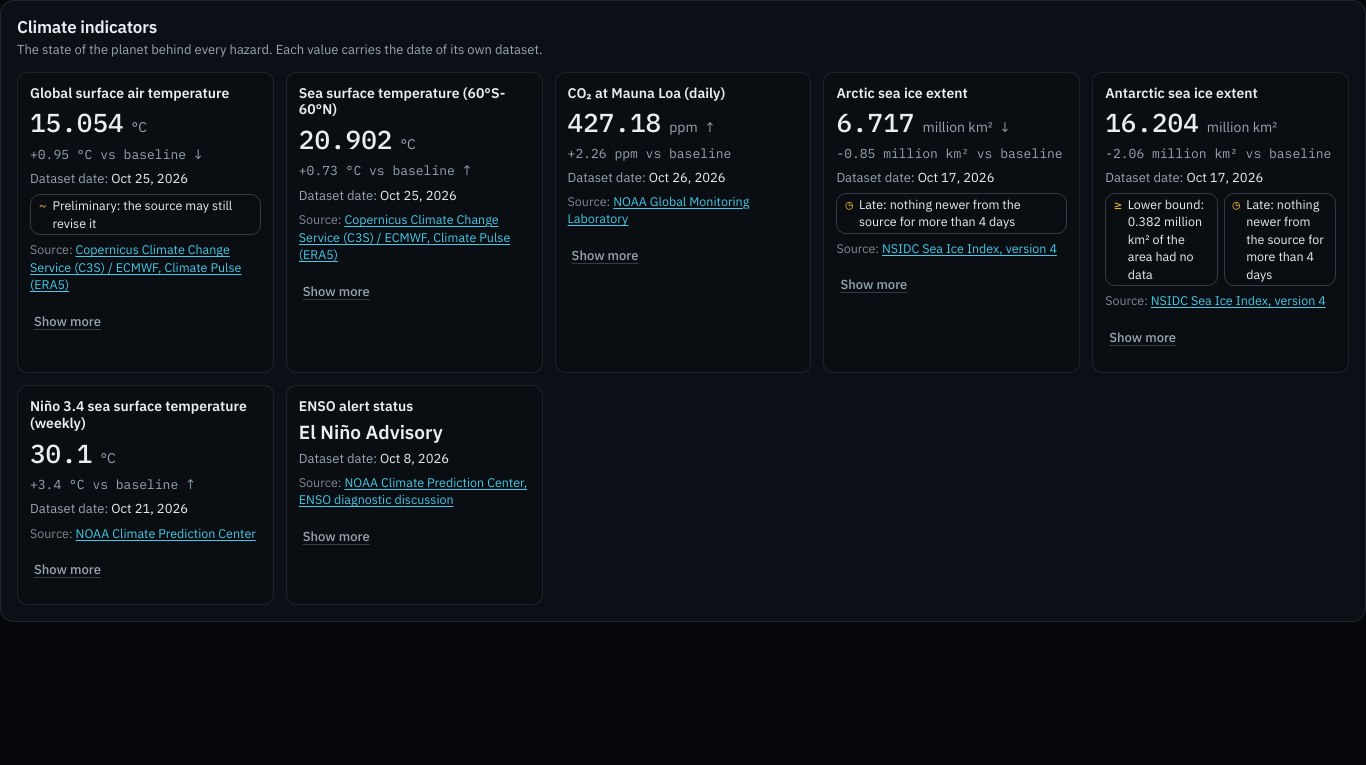
show more › toggles aria-expanded and reveals the long detail
Expected: the text "El Niño continues to strengthen" is not shown
Click the button "Show more" below "ENSO alert status": (336, 537) [299,515,374,559]
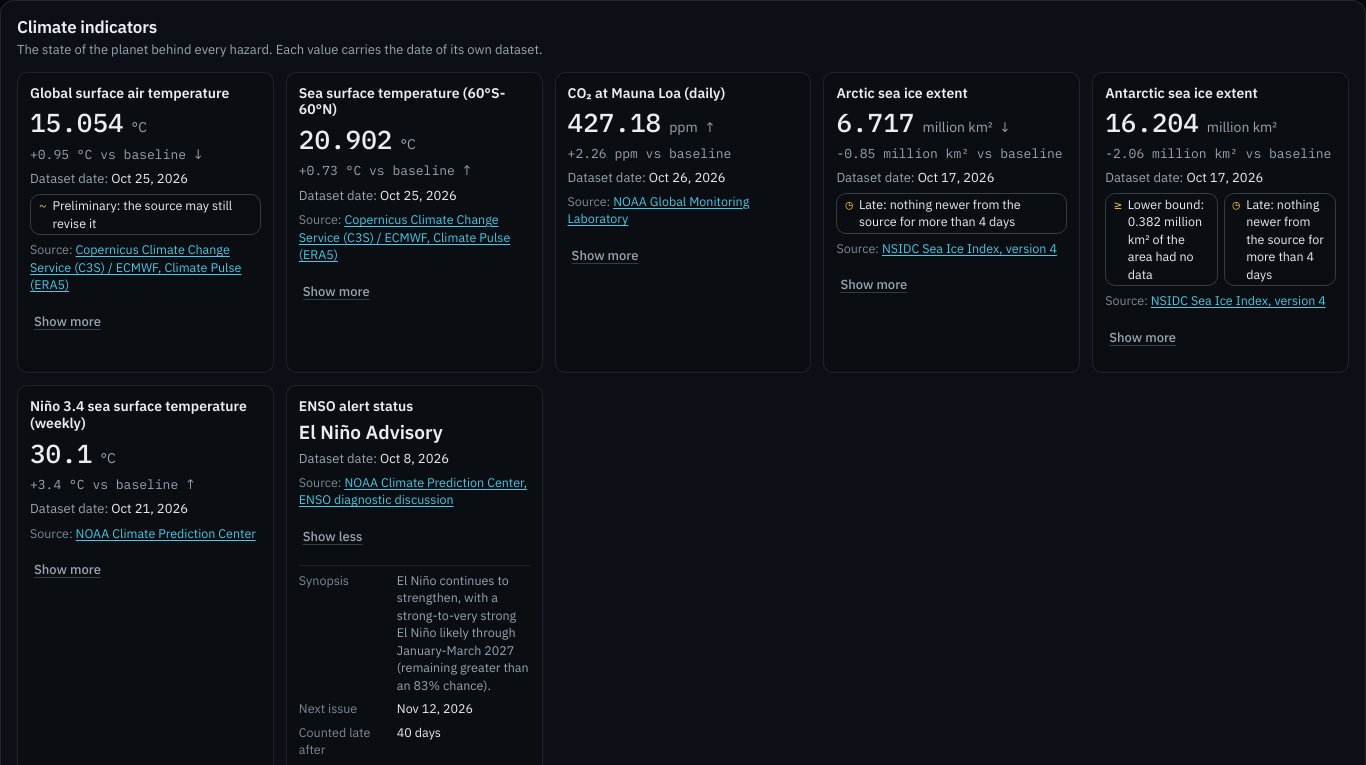
Expected: the button named "Show more" is expanded
Expected: the button named "Show more" reads "Show less"
Expected: the text "El Niño continues to strengthen" is shown, [397,572,529,693]
Click the button named "Show more": (333, 537) [299,515,366,559]
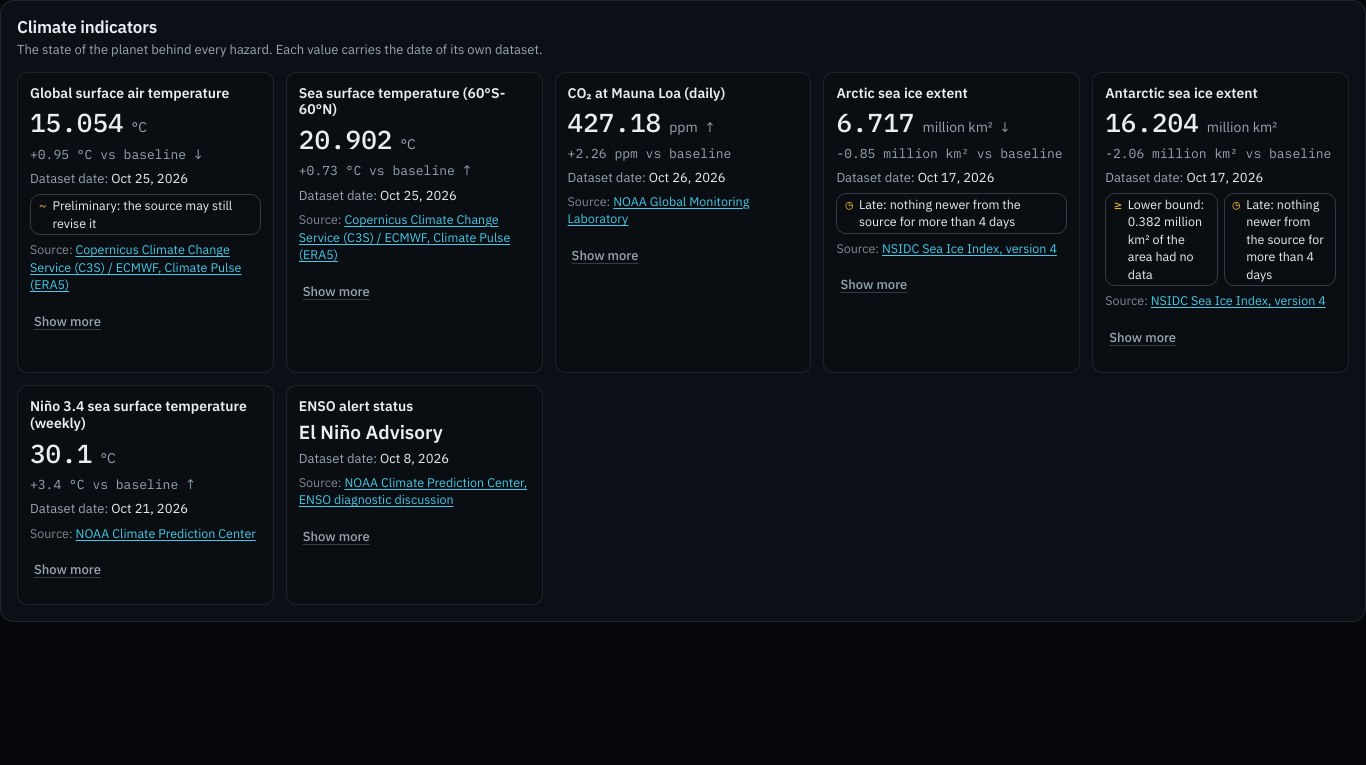
Expected: the button "Show more" below "ENSO alert status" is collapsed, [299,515,374,559]
